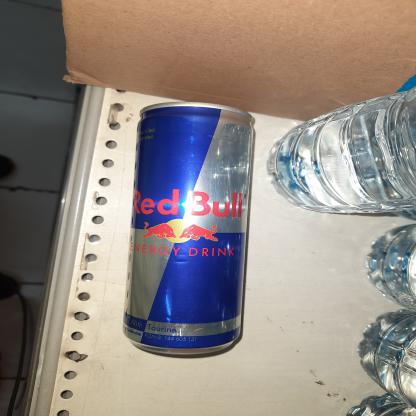can: (123, 97, 262, 362)
